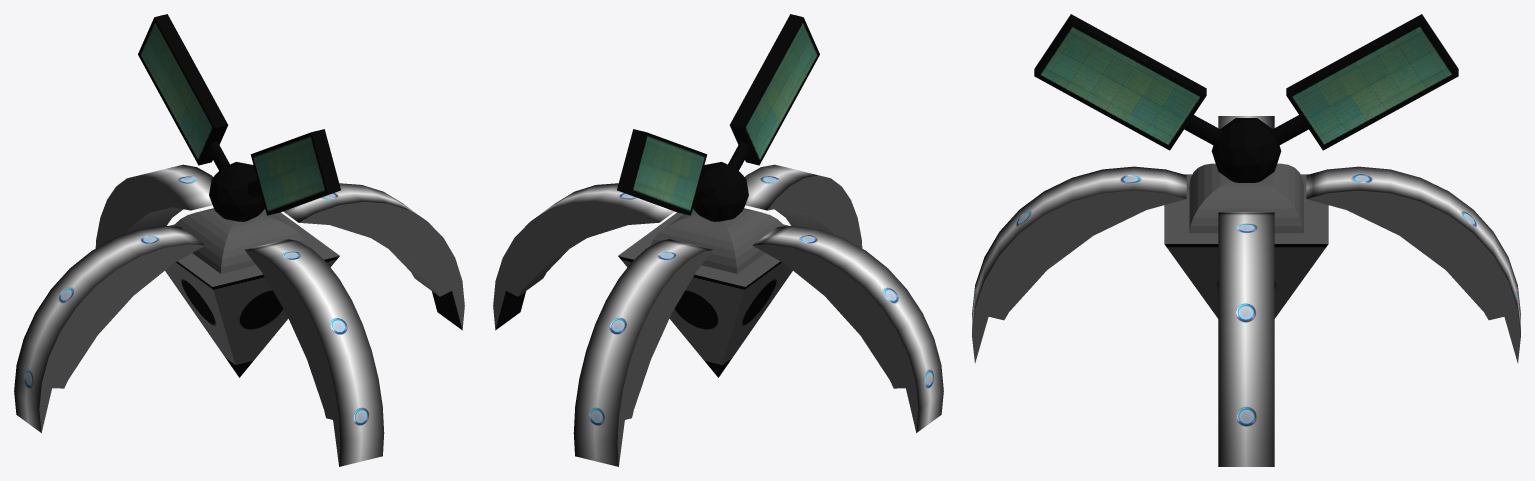
File: base_gun.glb
The picture shows the model from 3 angles, left to right: view 1: azimuth 30°, elevation 25°; view 2: azimuth 150°, elevation 25°; view 3: azimuth 270°, elevation 25°; orthographic projection. The views are drawn at different scales.
Parts seen in each view (by area): view 1: Cylinder, Cube.001, Solar_PAnel, Icosphere; view 2: Cylinder, Cube.001, Solar_PAnel, Icosphere; view 3: Cylinder, Solar_PAnel, Cube.001, Icosphere.
Part boxes in pixels (left/top/right/bottom): Cylinder: left=14, top=164, right=464, bottom=466; Cube.001: left=165, top=208, right=339, bottom=377; Solar_PAnel: left=138, top=14, right=340, bottom=215; Icosphere: left=207, top=141, right=264, bottom=221; Cylinder: left=493, top=164, right=943, bottom=466; Cube.001: left=618, top=208, right=792, bottom=377; Solar_PAnel: left=617, top=14, right=819, bottom=215; Icosphere: left=693, top=141, right=750, bottom=221; Cylinder: left=972, top=116, right=1520, bottom=466; Solar_PAnel: left=1034, top=14, right=1458, bottom=150; Cube.001: left=1164, top=163, right=1328, bottom=318; Icosphere: left=1184, top=115, right=1308, bottom=182.
Bounding box in the file's own units: 3.39 × 2.32 × 3.39.
Materials: 4 (3 with a texture image).
